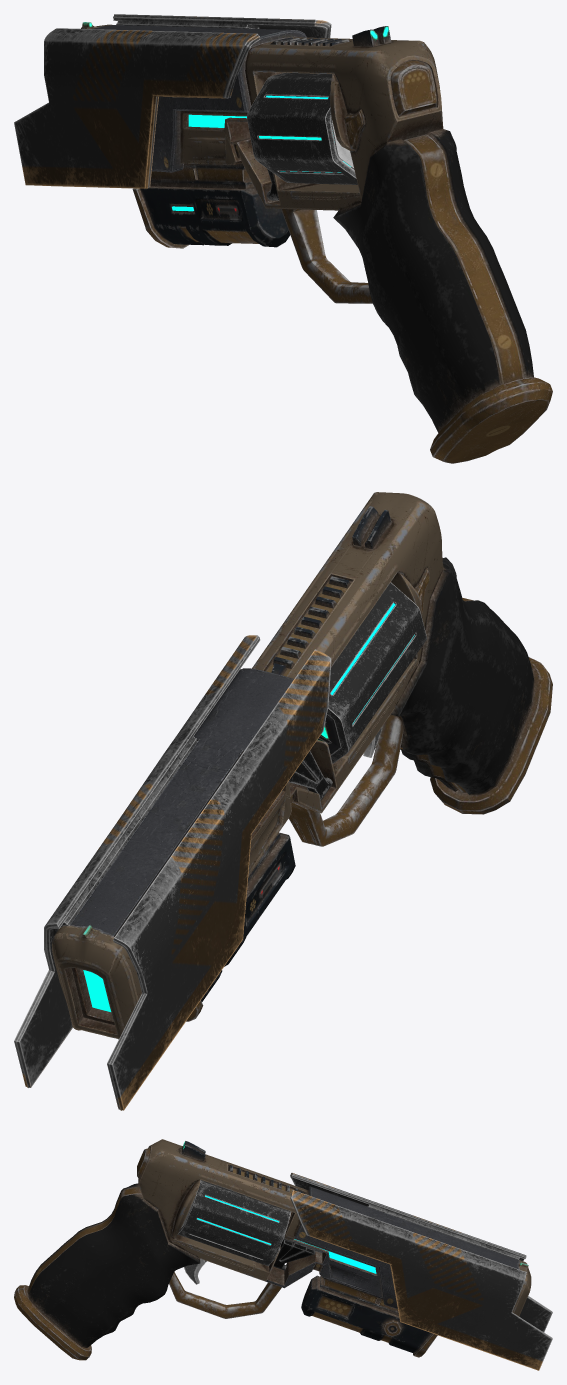
The picture shows the model from 3 angles, top to bottom: view 1: azimuth 30°, elevation 25°; view 2: azimuth 150°, elevation 25°; view 3: azimuth 270°, elevation 25°; orthographic projection. The views are drawn at different scales.
Visible parts, largest first — view 1: Receiver_lp, Shroud_lp, Cylinder_lp; view 2: Receiver_lp, Shroud_lp, Cylinder_lp, RotatingPin_lp; view 3: Receiver_lp, Shroud_lp, Cylinder_lp, RotatingPin_lp.
Part boxes in pixels (x1,y1,x2,y2): Receiver_lp: (81, 22, 552, 463); Shroud_lp: (14, 14, 331, 188); Cylinder_lp: (247, 72, 357, 184); Receiver_lp: (52, 492, 552, 1039); Shroud_lp: (14, 635, 331, 1110); Cylinder_lp: (317, 582, 426, 763); RotatingPin_lp: (288, 751, 332, 800); Receiver_lp: (14, 1139, 531, 1360); Shroud_lp: (290, 1173, 552, 1370); Cylinder_lp: (177, 1180, 322, 1266); RotatingPin_lp: (273, 1240, 315, 1270).
Size of the model in its own units: 0.2583 by 0.9177 by 2.09.
Materials: 6 (6 with a texture image).
